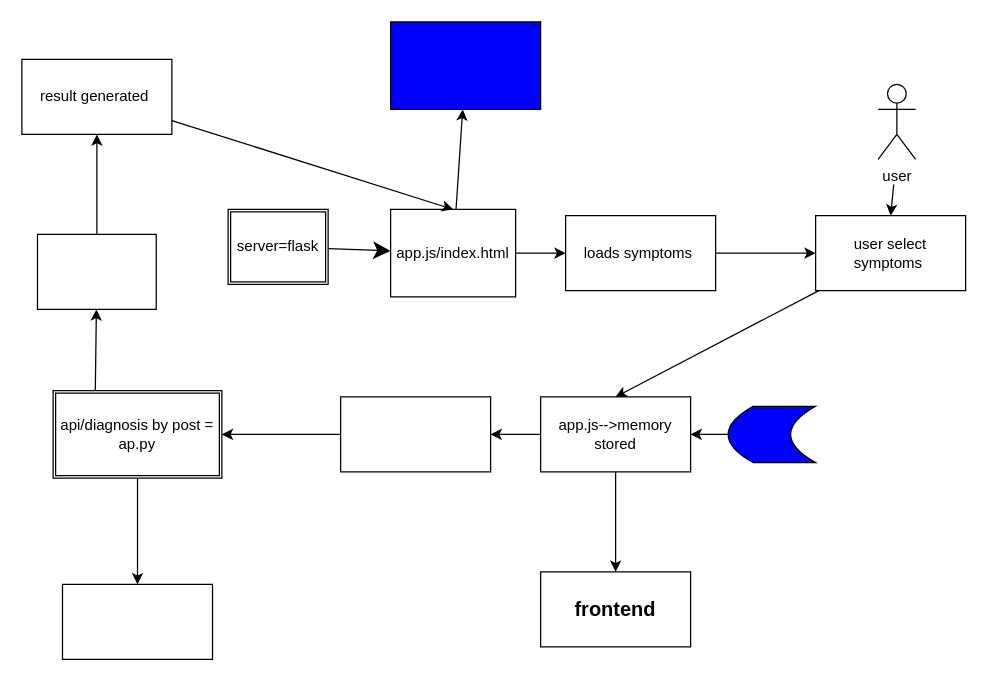
This 988x681 diagram has some shape labels left out. Each missing label, with the box of its shape:
backend: (61, 583, 212, 659)
convert to json: (339, 396, 491, 472)
shown on screen: (389, 21, 541, 109)
symptoms sent to analyzer.py: (36, 233, 156, 309)
